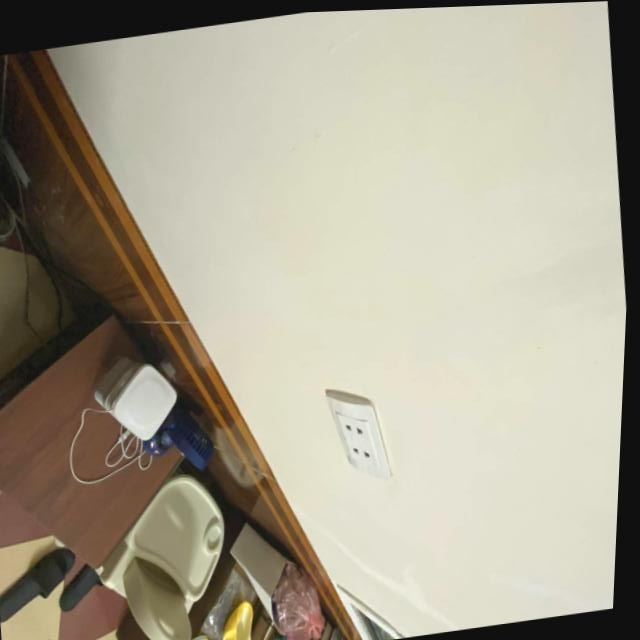outlet: (321, 380, 399, 488)
